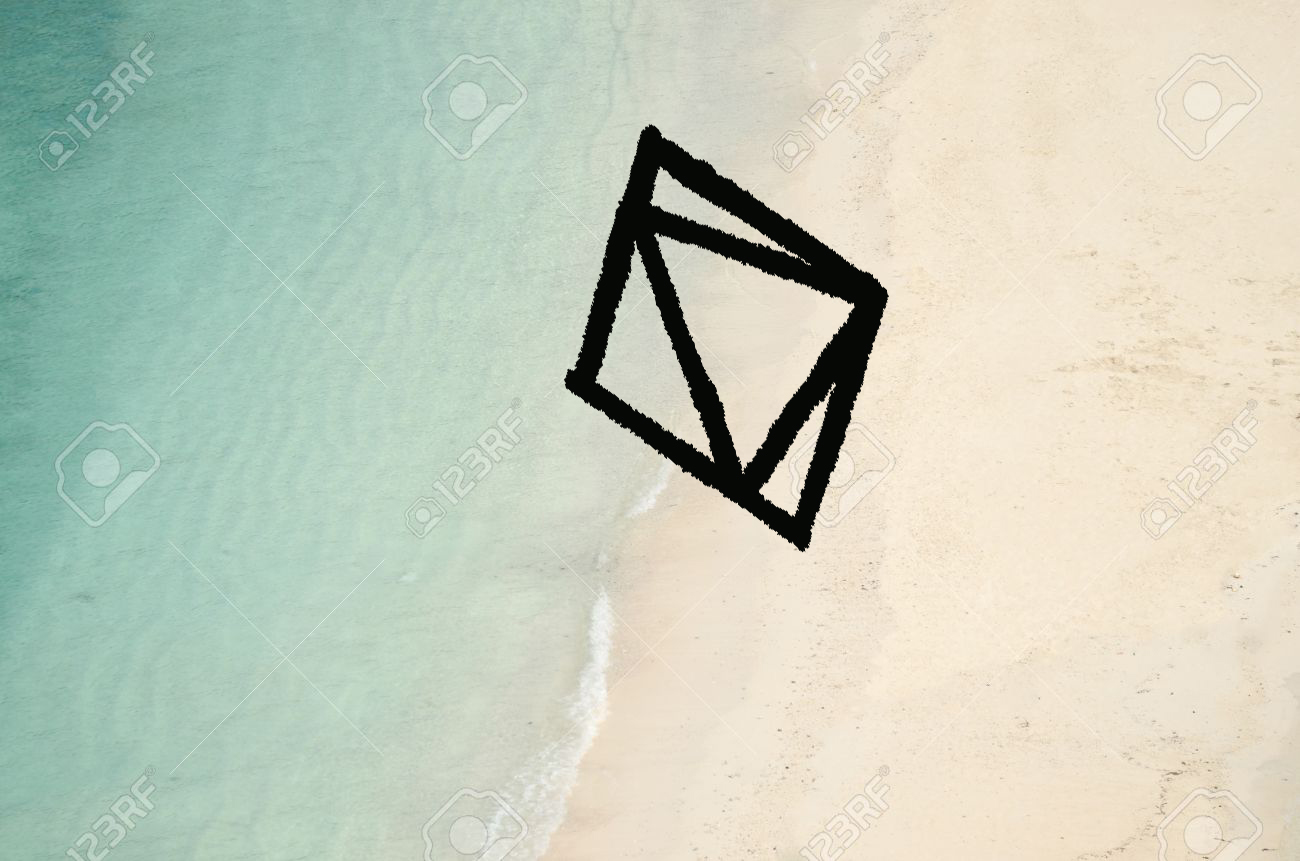marker: (554, 117, 901, 567)
